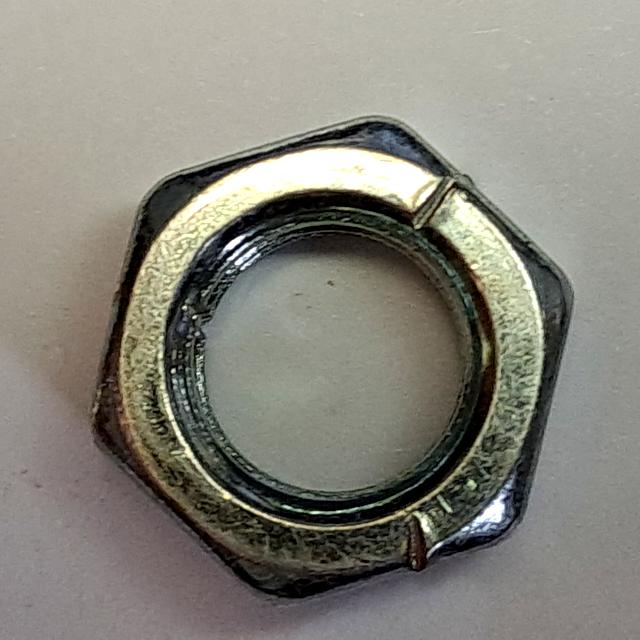Scratches: (77, 107, 585, 617)
